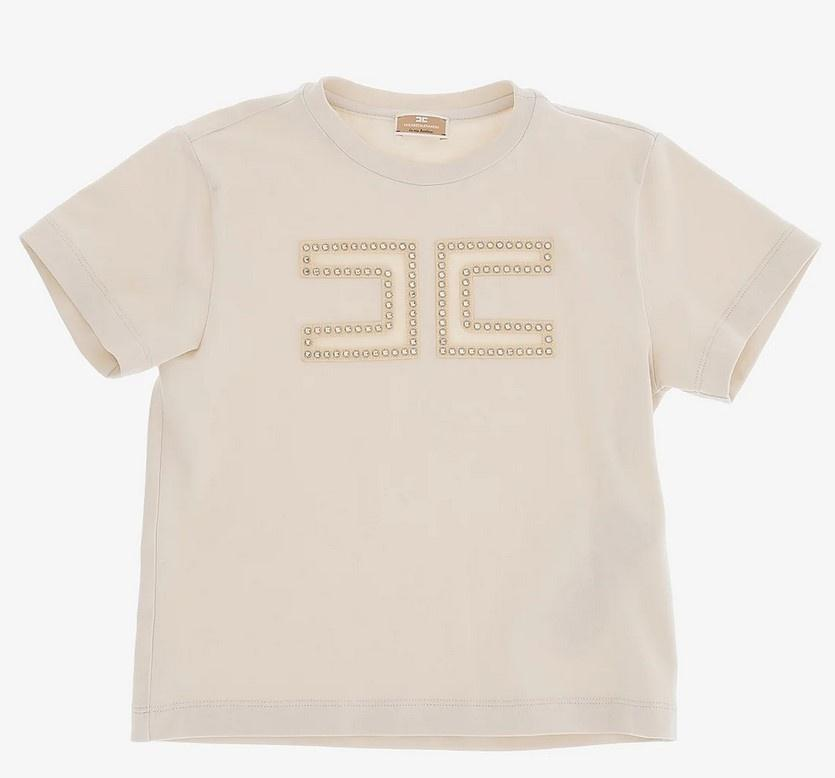ELISABETTA-FRANCHI: (271, 211, 585, 391)
